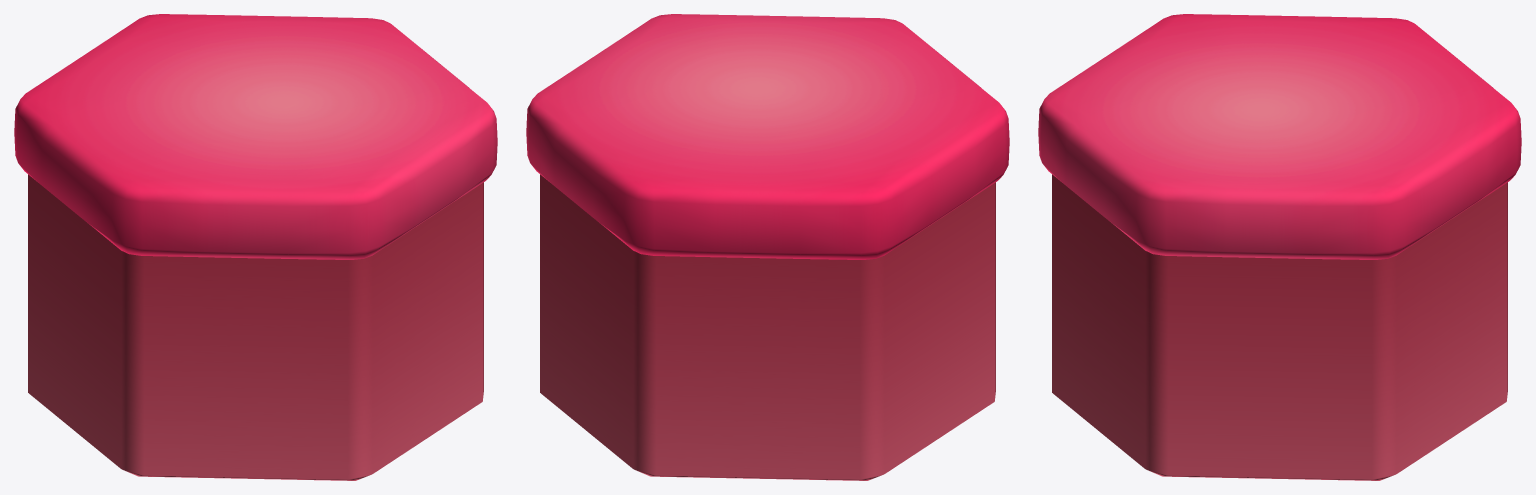
The model's file is Tile plante.fbx.
3 views of the same model, side by side, from view 1: azimuth 30°, elevation 25°; view 2: azimuth 150°, elevation 25°; view 3: azimuth 270°, elevation 25° (orthographic).
Parts seen in each view (by area): view 1: Cylinder.136, Cylinder.135; view 2: Cylinder.136, Cylinder.135; view 3: Cylinder.136, Cylinder.135.
Part boxes in pixels (left/top/right/bottom): Cylinder.136: left=28, top=174, right=483, bottom=480; Cylinder.135: left=14, top=14, right=497, bottom=259; Cylinder.136: left=540, top=174, right=995, bottom=480; Cylinder.135: left=526, top=14, right=1009, bottom=259; Cylinder.136: left=1052, top=174, right=1507, bottom=480; Cylinder.135: left=1038, top=14, right=1521, bottom=259.
Size of the model in its own units: 171 by 128 by 187.
